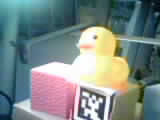duck: (64, 20, 137, 95)
